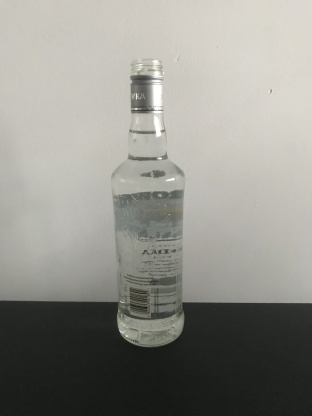nakretka: (128, 56, 165, 114)
